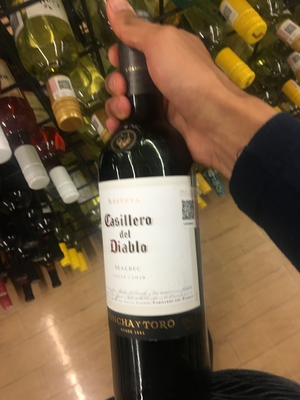casillero del diablo malbec: (87, 39, 228, 400)
